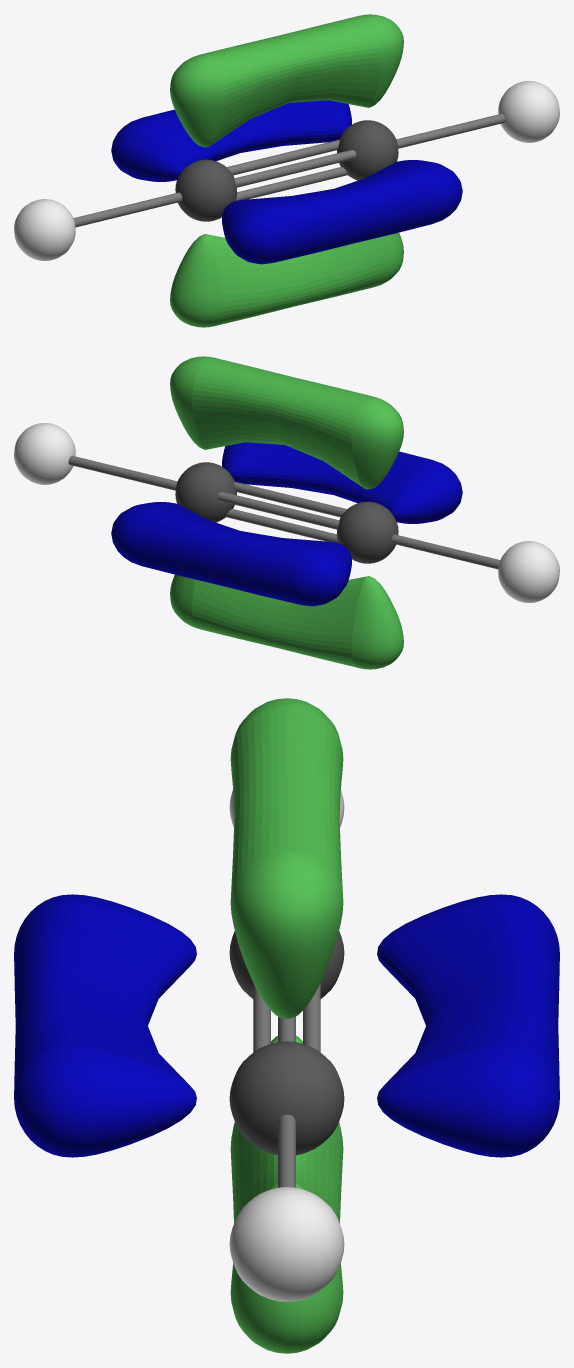
The picture shows the model from 3 angles, top to bottom: view 1: azimuth 30°, elevation 25°; view 2: azimuth 150°, elevation 25°; view 3: azimuth 270°, elevation 25°; orthographic projection. The views are drawn at different scales.
Parts seen in each view (by area): view 1: pSphere7.001, pSphere9, pSphere8.001, pSphere10, pSphere30, pSphere6, pSphere2.001, pSphere1.001, pCylinder2.001, pCylinder4.001, pCylinder1, pCylinder18 (+1 smaller); view 2: pSphere7.001, pSphere10, pSphere8.001, pSphere9, pSphere30, pSphere6, pSphere2.001, pSphere1.001, pCylinder4.001, pCylinder2.001, pCylinder1, pCylinder18 (+1 smaller); view 3: pSphere10, pSphere9, pSphere7.001, pSphere8.001, pSphere6, pSphere1.001, pSphere2.001, pCylinder8, pCylinder2.001, pCylinder4.001.
Part boxes in pixels (x1,y1,x2,y2): pSphere7.001: (170,14,403,147); pSphere9: (222,160,462,264); pSphere8.001: (170,232,403,327); pSphere10: (111,100,351,181); pSphere30: (14,199,75,260); pSphere6: (498,81,559,142); pSphere2.001: (175,159,236,221); pSphere1.001: (337,120,398,180); pCylinder2.001: (234,150,356,187); pCylinder4.001: (226,139,339,175); pCylinder1: (235,167,348,201); pCylinder18: (73,192,182,227); pSphere7.001: (170,356,403,489); pSphere10: (111,502,351,606); pSphere8.001: (170,574,403,669); pSphere9: (222,442,462,523); pSphere30: (498,541,559,602); pSphere6: (14,423,75,484); pSphere2.001: (337,501,398,563); pSphere1.001: (175,462,236,522); pCylinder4.001: (217,492,339,529); pCylinder2.001: (234,481,347,517); pCylinder1: (225,509,338,543); pCylinder18: (391,534,500,569); pSphere10: (377,894,559,1157); pSphere9: (14,894,196,1157); pSphere7.001: (230,698,343,1019); pSphere8.001: (230,1035,343,1353); pSphere6: (229,1187,344,1301); pSphere1.001: (229,1041,344,1155); pSphere2.001: (229,931,344,998); pCylinder8: (278,1114,295,1187); pCylinder2.001: (253,983,270,1052); pCylinder4.001: (303,983,320,1052).
Size of the model in its own units: 0.2 by 0.0951 by 0.0951.
